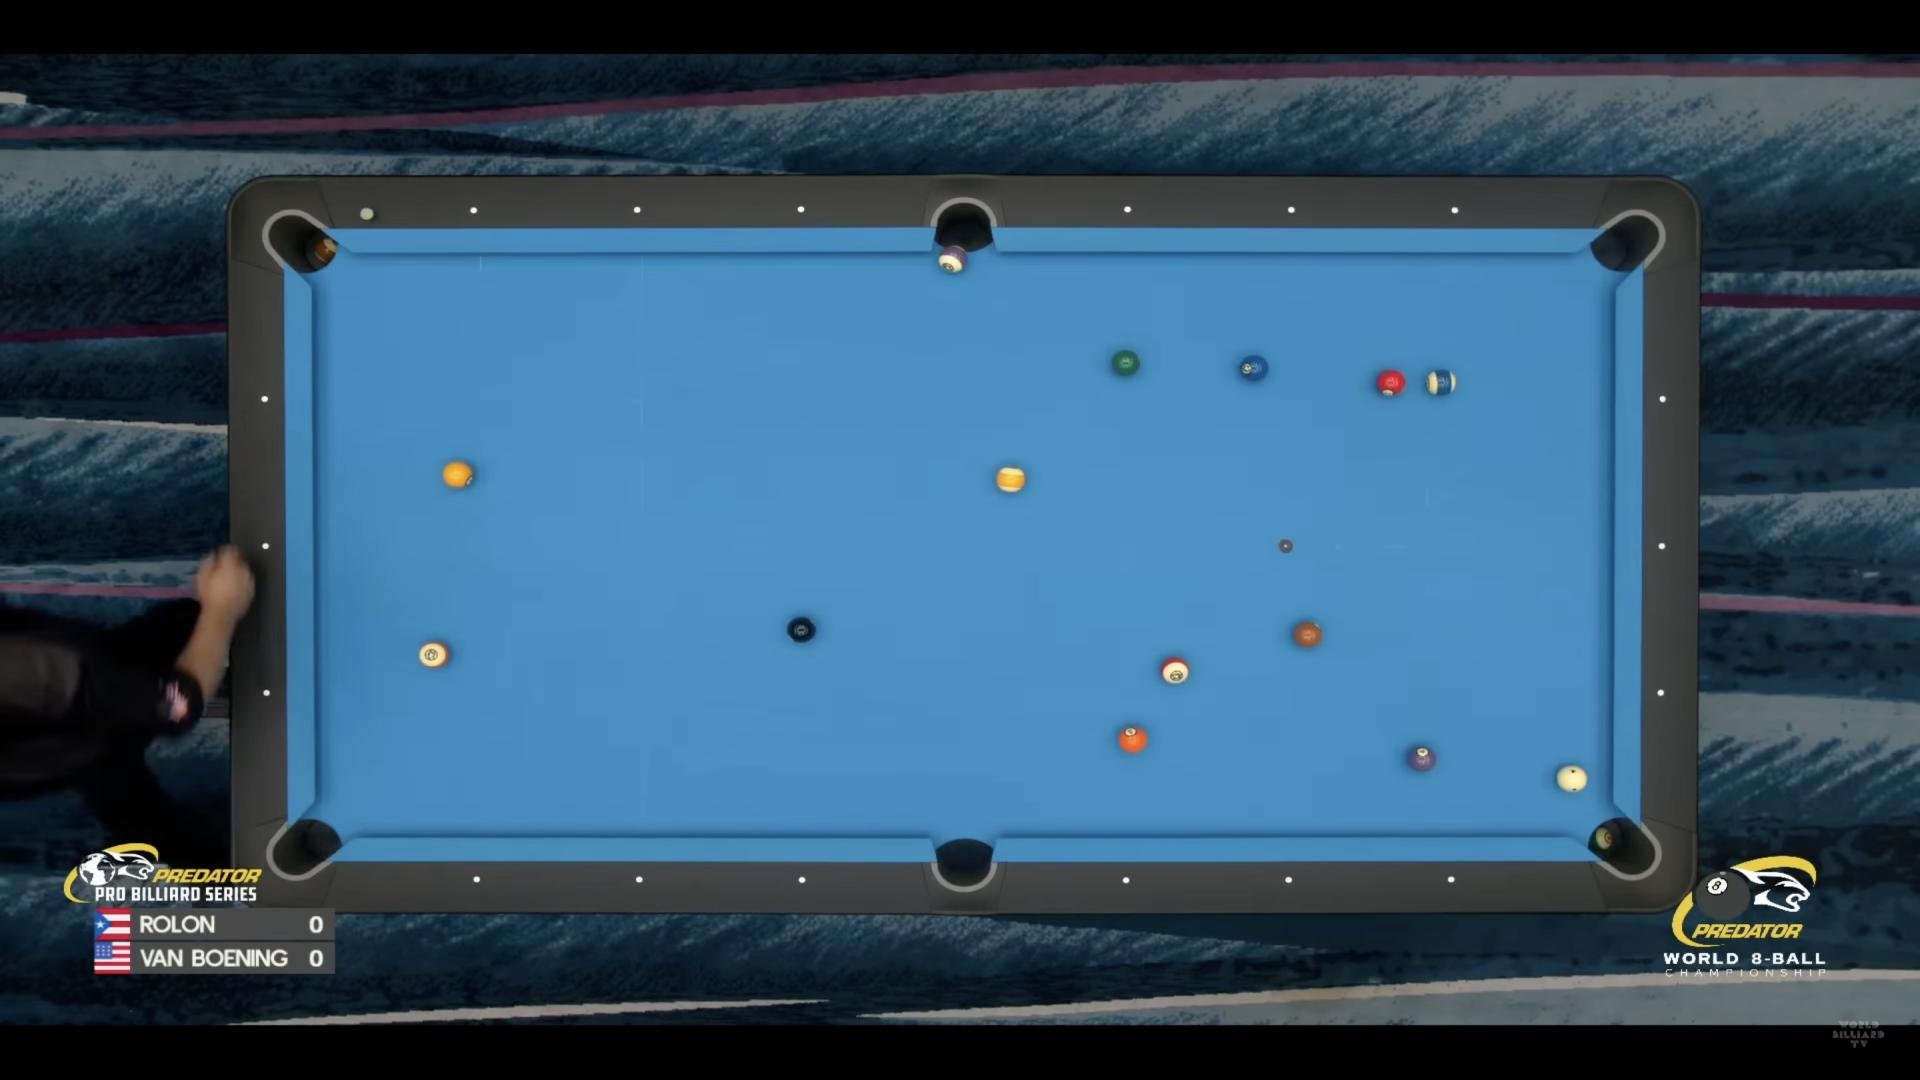Black: (786, 617, 816, 644)
Cue: (1556, 765, 1588, 793)
Dot: (258, 683, 276, 698), (1652, 687, 1668, 702), (1654, 538, 1669, 553), (1655, 392, 1671, 406), (260, 538, 276, 553), (1118, 874, 1134, 887), (256, 393, 272, 406), (1444, 874, 1458, 887), (1280, 873, 1295, 886), (1286, 204, 1298, 215), (1121, 204, 1133, 215), (1448, 207, 1460, 216), (633, 876, 644, 885), (633, 204, 644, 214), (798, 876, 807, 885), (469, 207, 479, 216), (472, 876, 481, 884), (796, 206, 804, 212)
Solid: (443, 462, 473, 488), (1118, 727, 1147, 753), (1240, 355, 1269, 381), (1112, 349, 1139, 376), (1294, 621, 1323, 646), (1377, 371, 1406, 396), (1407, 746, 1435, 771)
Striped: (1425, 369, 1457, 396), (938, 245, 967, 273), (997, 465, 1025, 493), (1160, 657, 1189, 683), (419, 642, 448, 669)
